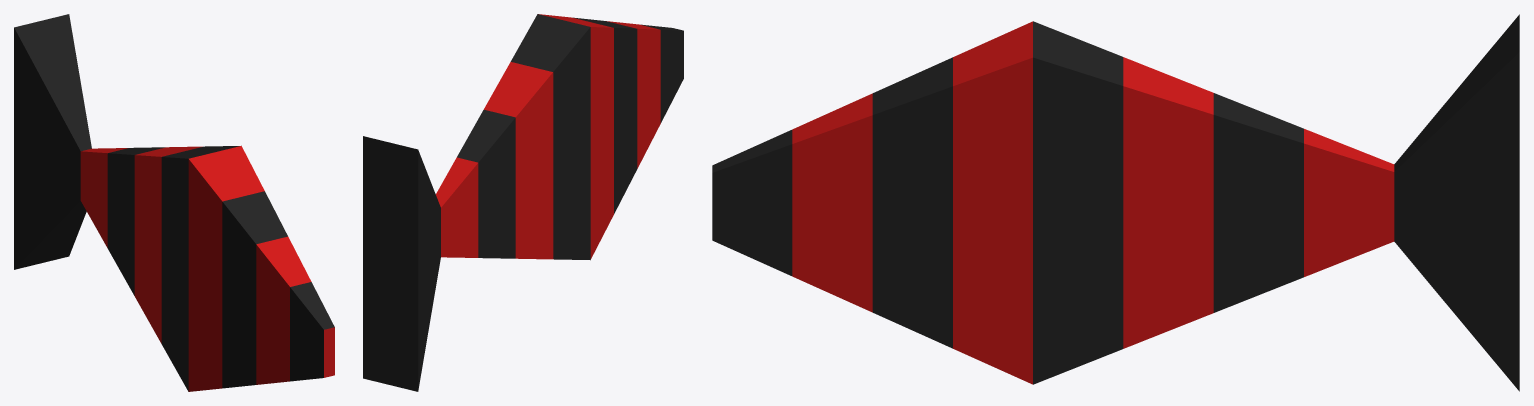
Rendered from redblack-simplefish (1).fbx.
3 renders of one model, left to right at view 1: azimuth 30°, elevation 25°; view 2: azimuth 150°, elevation 25°; view 3: azimuth 270°, elevation 25°, orthographic. The views are drawn at different scales.
Parts seen in each view (by area): view 1: Cube; view 2: Cube; view 3: Cube.
Boxes of the visible parts, x1,y1,x2,y2 form: Cube: (14, 14, 334, 391); Cube: (363, 14, 683, 391); Cube: (712, 14, 1519, 391).
Size of the model in its own units: 53.31 by 224 by 482.
